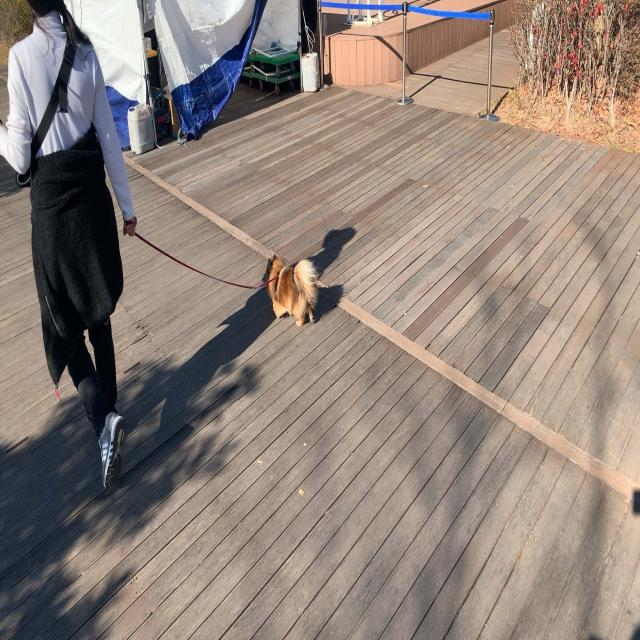Leashed_Dog: (80, 154, 319, 326)
